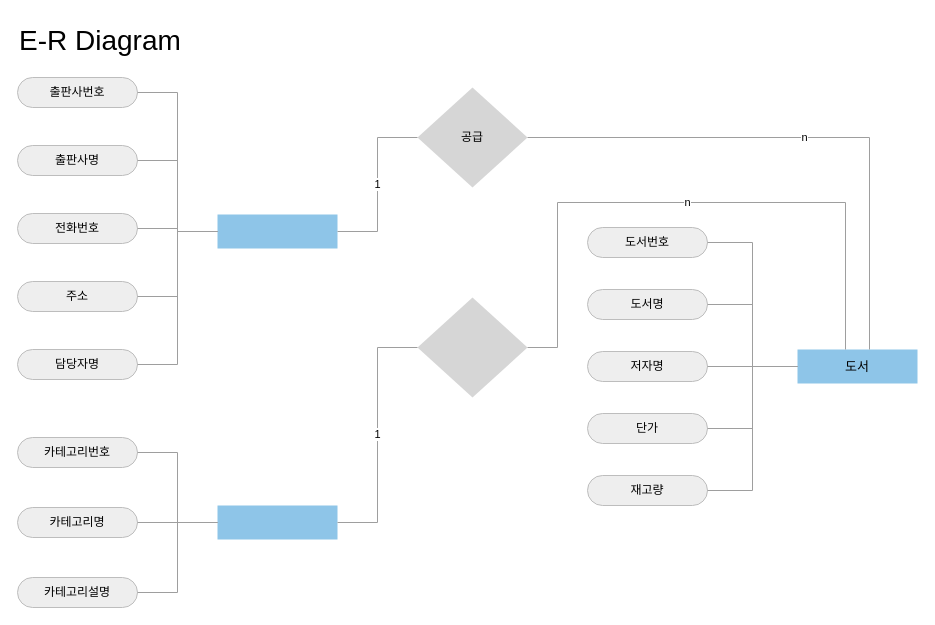
This 935x625 diagram has some shape labels left out. The shapes that lost their labels are listed below. From the top down, each one's centre as x and y in pixels, then its label:
pixel 277 231: 출판사
pixel 472 347: 분류
pixel 277 522: 카테고리
